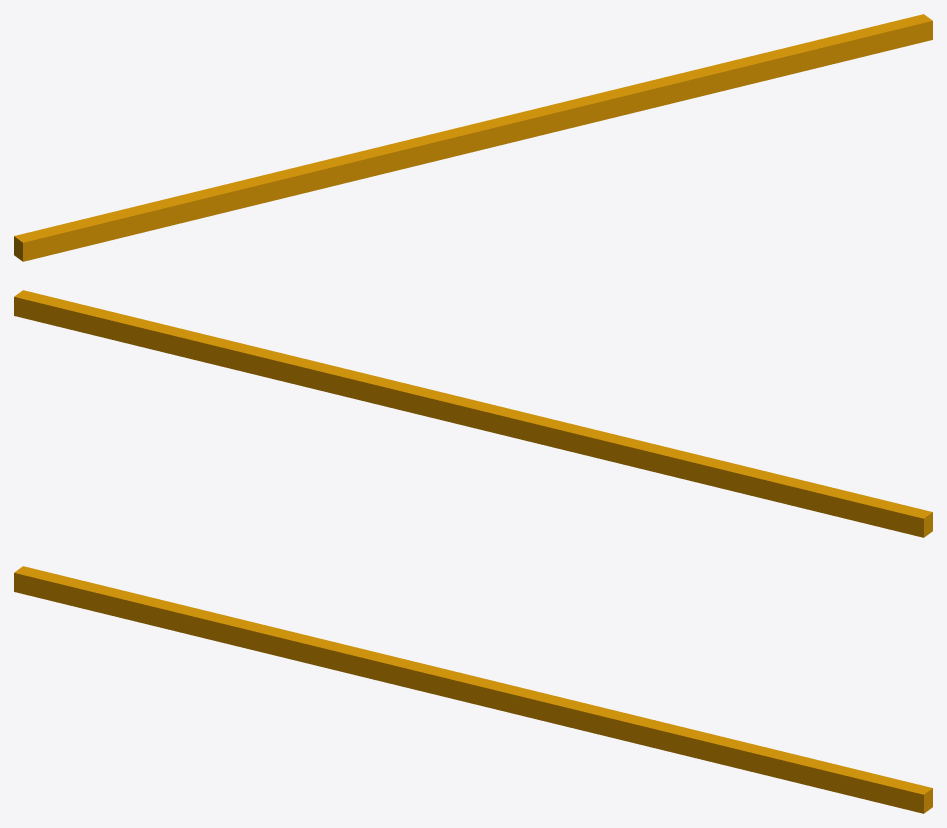
Rendered from L_Rope_A_01.fbx.
The picture shows the model from 3 angles, top to bottom: view 1: azimuth 30°, elevation 25°; view 2: azimuth 150°, elevation 25°; view 3: azimuth 330°, elevation 25°; orthographic projection.
Visible parts, largest first — view 1: L_Rope_A_01; view 2: L_Rope_A_01; view 3: L_Rope_A_01.
Part boxes in pixels (box(x1,y1,x2,y2)): L_Rope_A_01: box(14, 14, 932, 261); L_Rope_A_01: box(14, 290, 932, 537); L_Rope_A_01: box(14, 566, 932, 813).
Bounding box in the file's own units: 415 × 8.33 × 7.22.
